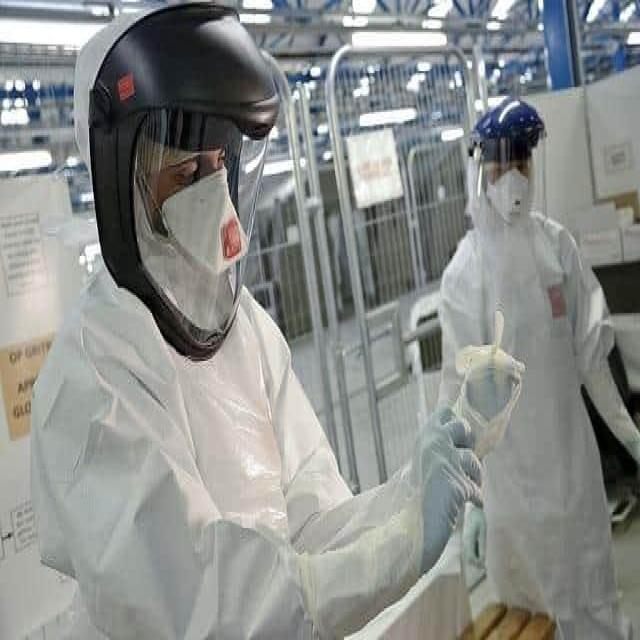Coverall: (47, 4, 375, 637), (438, 53, 611, 594)
Gloves: (397, 383, 491, 582), (464, 336, 528, 460)
Mask: (160, 174, 261, 288), (481, 158, 535, 235)
